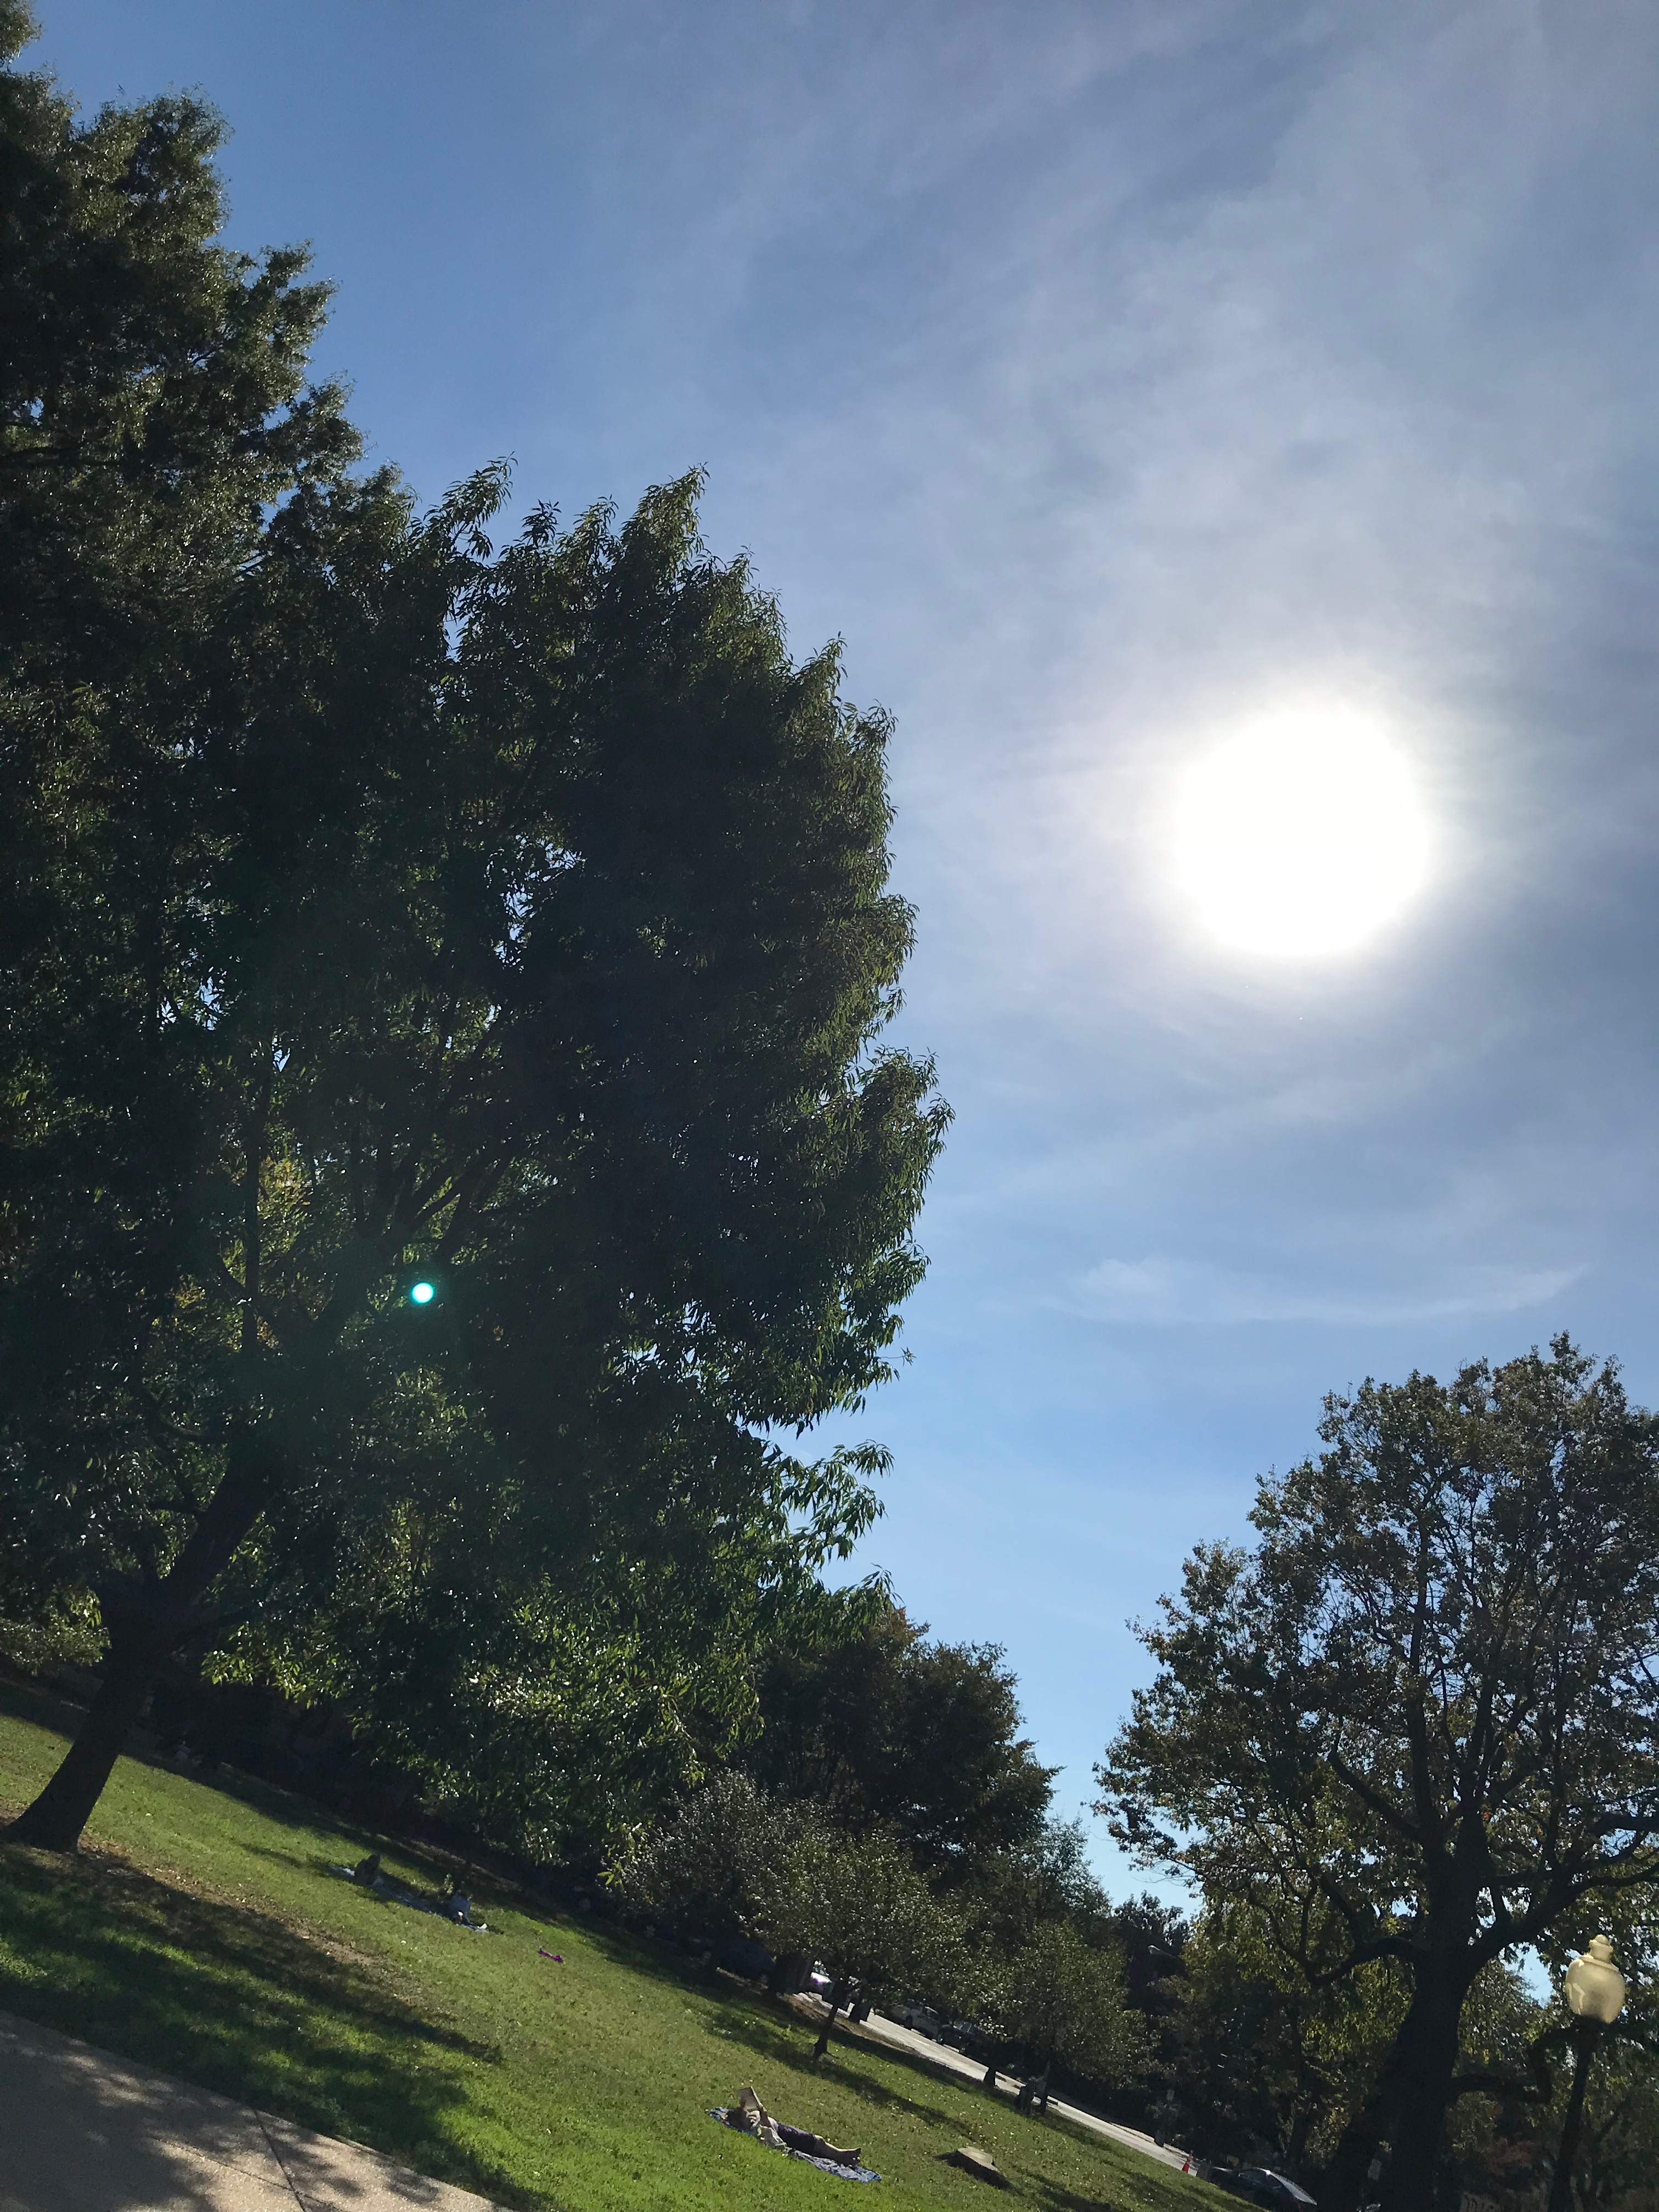flare: (410, 1280, 437, 1306)
